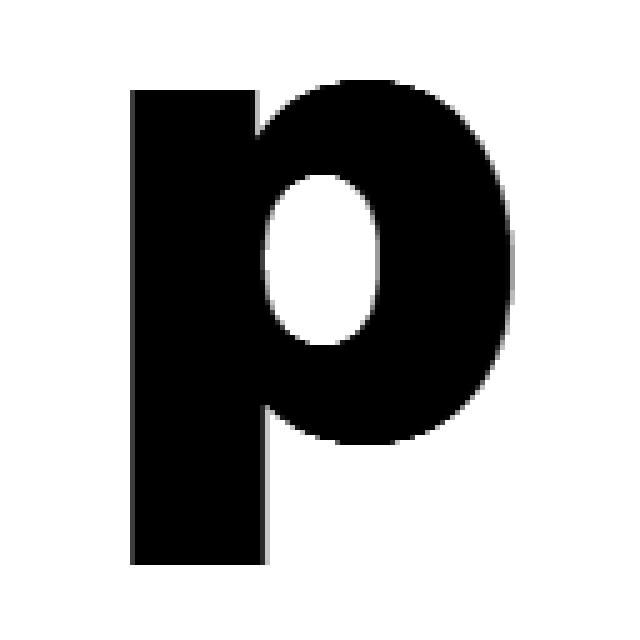P: (130, 80, 500, 570)
